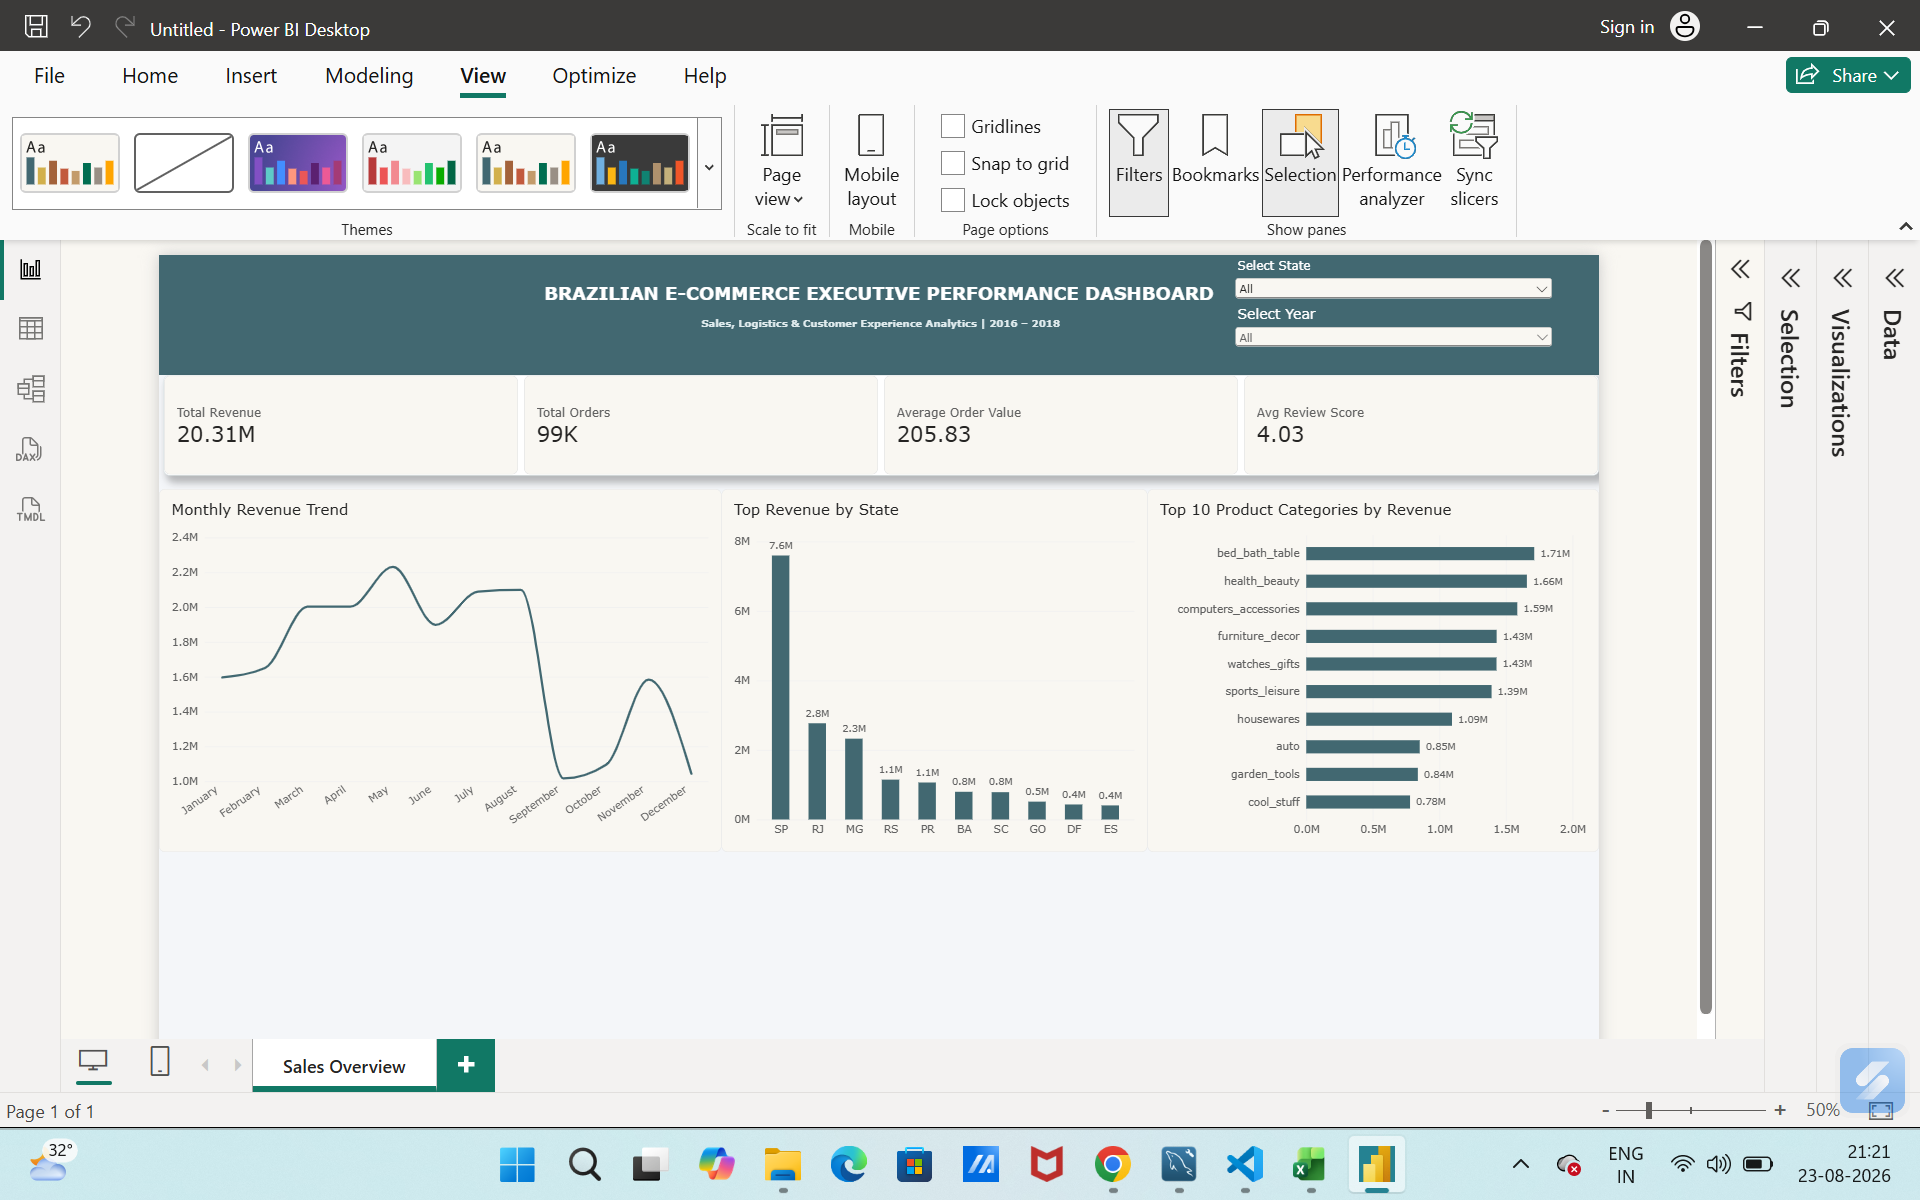

The dashboard page shown, as its layout file describes it:
{"tool":"powerbi","page":{"name":"Sales Overview","canvas":[1920,1080],"ordinal":0},"visuals":[{"type":"shape","box":[0,0,1920,160],"z":500},{"type":"cardVisual","fields":{"Data":["_Key Measures.Total Revenue","_Key Measures.Total Orders","_Key Measures.Average Order Value","_Key Measures.Avg Review Score"]},"box":[6,160,1914,134],"z":2000},{"type":"lineChart","title":"Monthly Revenue Trend","fields":{"Category":["ecommerce_analysis_ready.purchase_month.Variation.Date Hierarchy.Month"],"Y":["_Key Measures.Total Revenue"]},"box":[0,312,750,484],"z":3000},{"type":"clusteredBarChart","title":"Top 10 Product Categories by Revenue","fields":{"Category":["ecommerce_analysis_ready.product_category_name_english"],"Y":["_Key Measures.Total Revenue"]},"box":[1318,312,602,484],"z":4000},{"type":"slicer","fields":{"Values":["ecommerce_analysis_ready.purchase_year"]},"box":[1430,66,432,106],"z":5000},{"type":"clusteredColumnChart","title":"Top Revenue by State","fields":{"Category":["ecommerce_analysis_ready.customer_state"],"Y":["_Key Measures.Total Revenue"]},"box":[750,312,568,484],"z":7000},{"type":"slicer","fields":{"Values":["ecommerce_analysis_ready.customer_state"]},"box":[1430,4,432,62],"z":8500},{"type":"textbox","box":[0,36,1920,124],"z":9500},{"type":"textbox","box":[0,0,1920,44],"z":10000}]}

Visuals, with their boxes on the page's 1920x1080 design canvas (x1, y1, x2, y2). These are canvas units, not pixel positions in the 1920x1200 screenshot, which may show the page scaled, cropped or inside an application window:
shape: <bbox>0, 0, 1920, 160</bbox>
cardVisual - _Key Measures.Total Revenue x _Key Measures.Total Orders: <bbox>6, 160, 1920, 294</bbox>
"Monthly Revenue Trend" lineChart: <bbox>0, 312, 750, 796</bbox>
"Top 10 Product Categories by Revenue" clusteredBarChart: <bbox>1318, 312, 1920, 796</bbox>
slicer - ecommerce_analysis_ready.purchase_year: <bbox>1430, 66, 1862, 172</bbox>
"Top Revenue by State" clusteredColumnChart: <bbox>750, 312, 1318, 796</bbox>
slicer - ecommerce_analysis_ready.customer_state: <bbox>1430, 4, 1862, 66</bbox>
textbox: <bbox>0, 36, 1920, 160</bbox>
textbox: <bbox>0, 0, 1920, 44</bbox>
